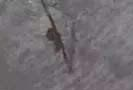Exposed reinforcement: (41, 1, 73, 74)
